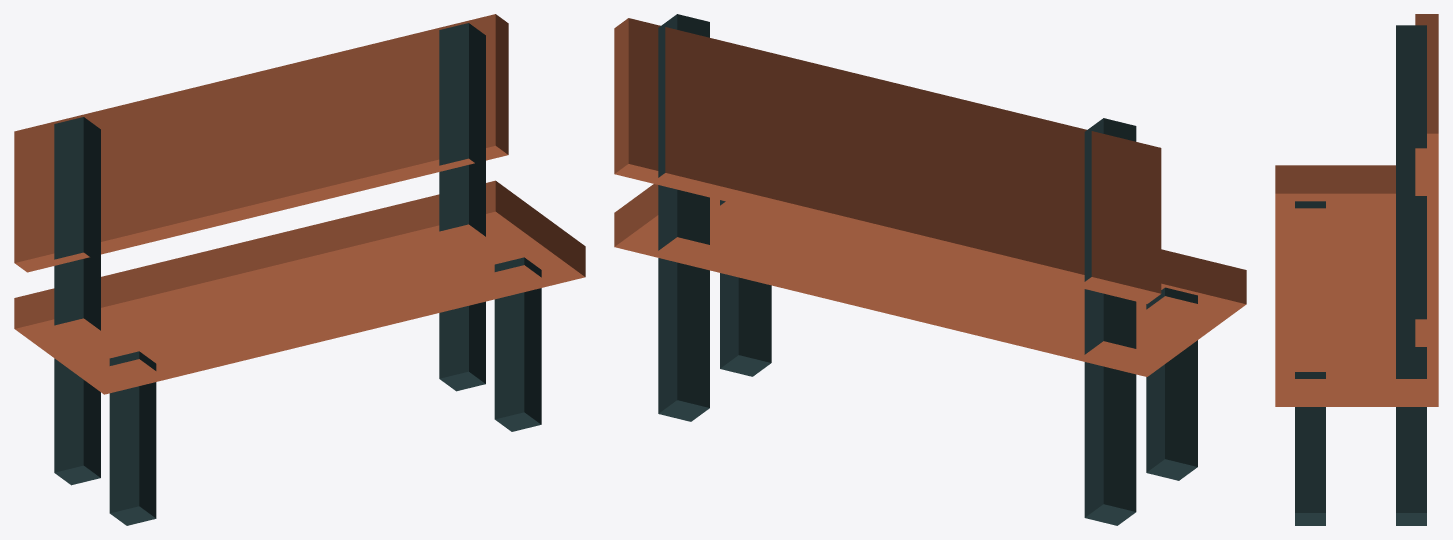
Rendered from bench_wood.glb.
The picture shows the model from 3 angles, left to right: view 1: azimuth 30°, elevation 25°; view 2: azimuth 150°, elevation 25°; view 3: azimuth 270°, elevation 25°; orthographic projection. The views are drawn at different scales.
Visible parts, largest first — view 1: bench_wood; view 2: bench_wood; view 3: bench_wood.
Boxes of the visible parts, x1,y1,x2,y2 form: bench_wood: (14, 14, 585, 525); bench_wood: (614, 14, 1246, 525); bench_wood: (1275, 14, 1438, 525).
Size of the model in its own units: 1.3 by 0.9 by 0.4199.
